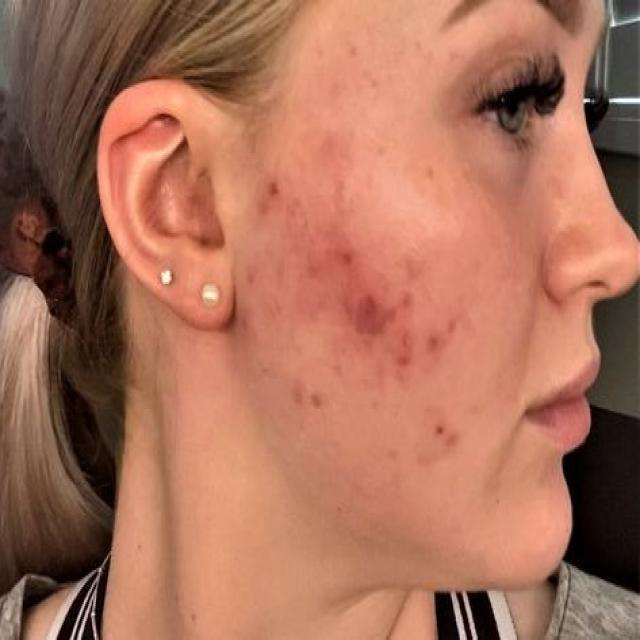Acne: (256, 91, 483, 508)
